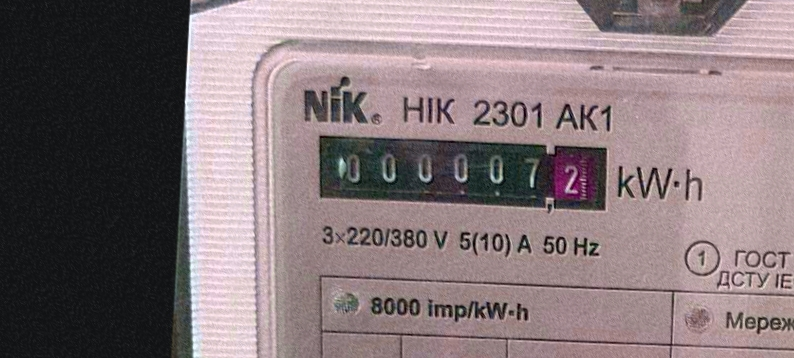0: (410, 146, 435, 185), (339, 147, 363, 183), (482, 148, 505, 185), (448, 148, 470, 186), (376, 147, 398, 183)
2: (558, 159, 581, 196)
7: (518, 151, 541, 190)
screen: (308, 123, 616, 219)
